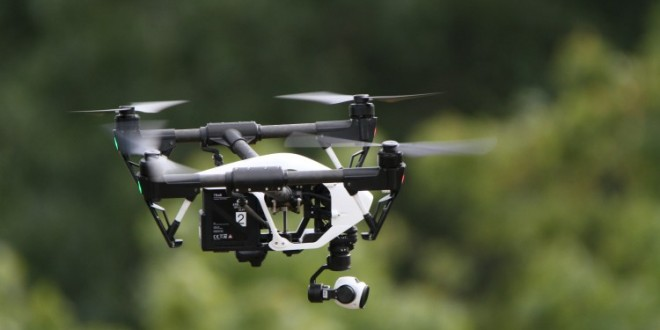drone: (65, 89, 502, 316)
